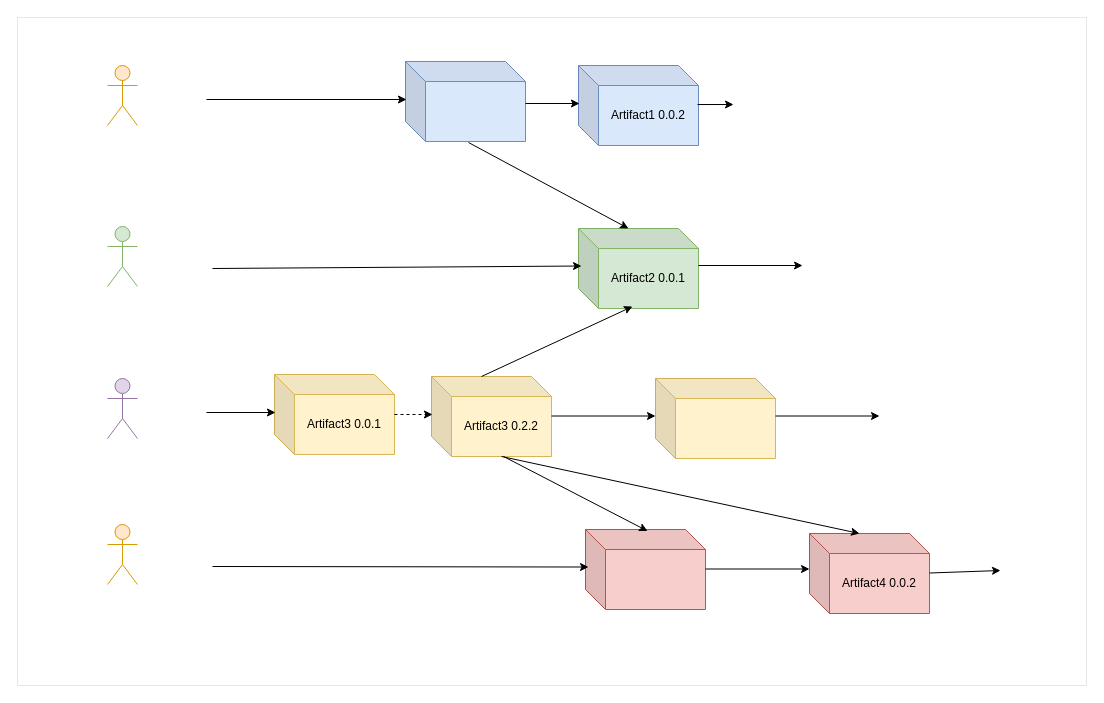
Some shapes in this 1104 by 703 pixel diagram are drawn without their labels. The centre of each missing label's shape, as x and y in pixels:
"Artifact1 0.0.1" goes at (x=465, y=101).
"Artifact3 0.2.3" goes at (x=715, y=418).
"Artifact4 0.0.1" goes at (x=645, y=569).
